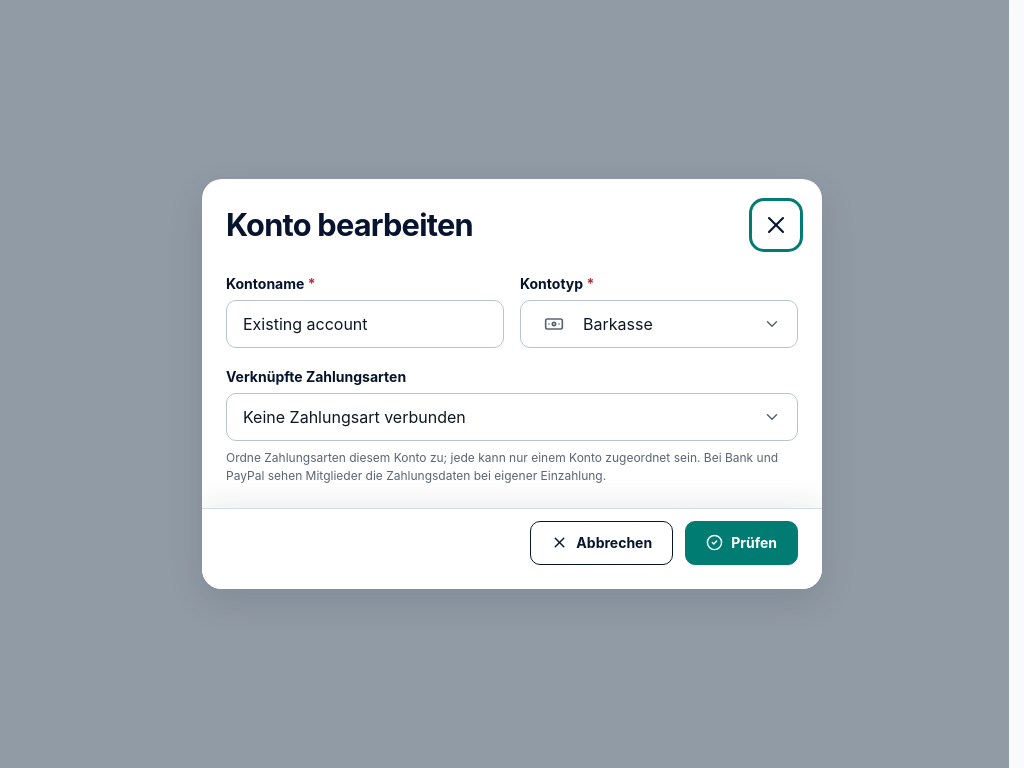
Scenario: ExternalAccountDialog › uses the icon-supported custom menu for account types
Step 1. Click the dropdown named "Kontotyp" → [618, 324], box [520, 300, 798, 348]
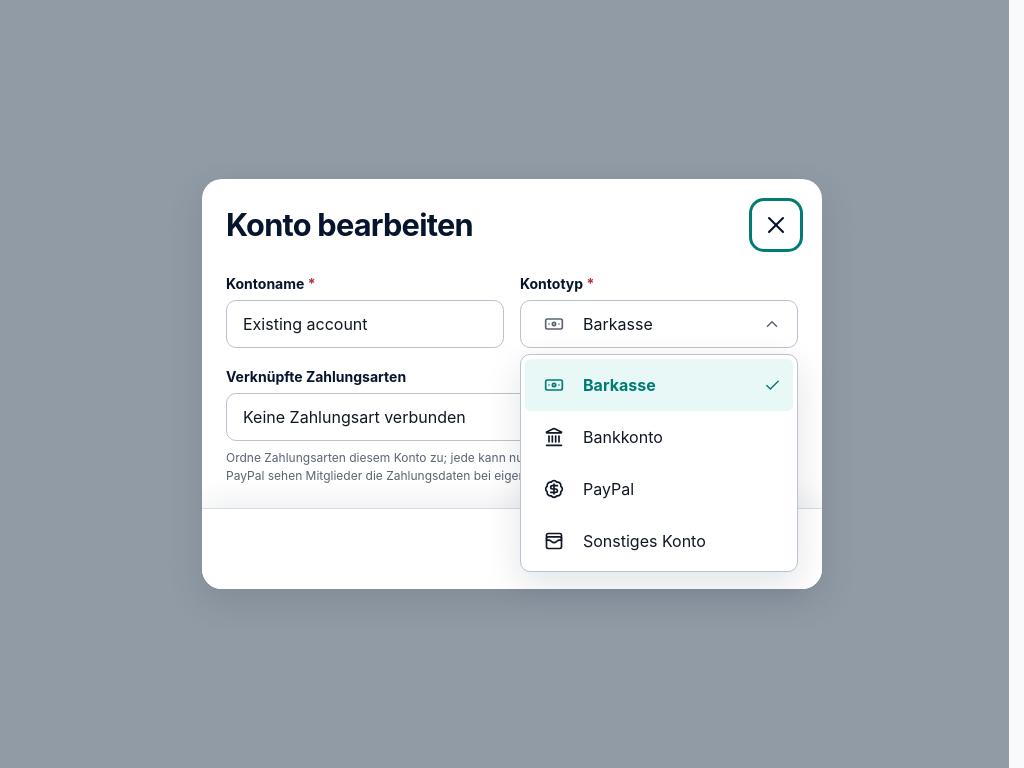
Now the icon next to "Bankkonto" is shown, box [544, 427, 564, 447]
Step 2. Click the option "Bankkonto" → [603, 437], box [544, 427, 663, 447]
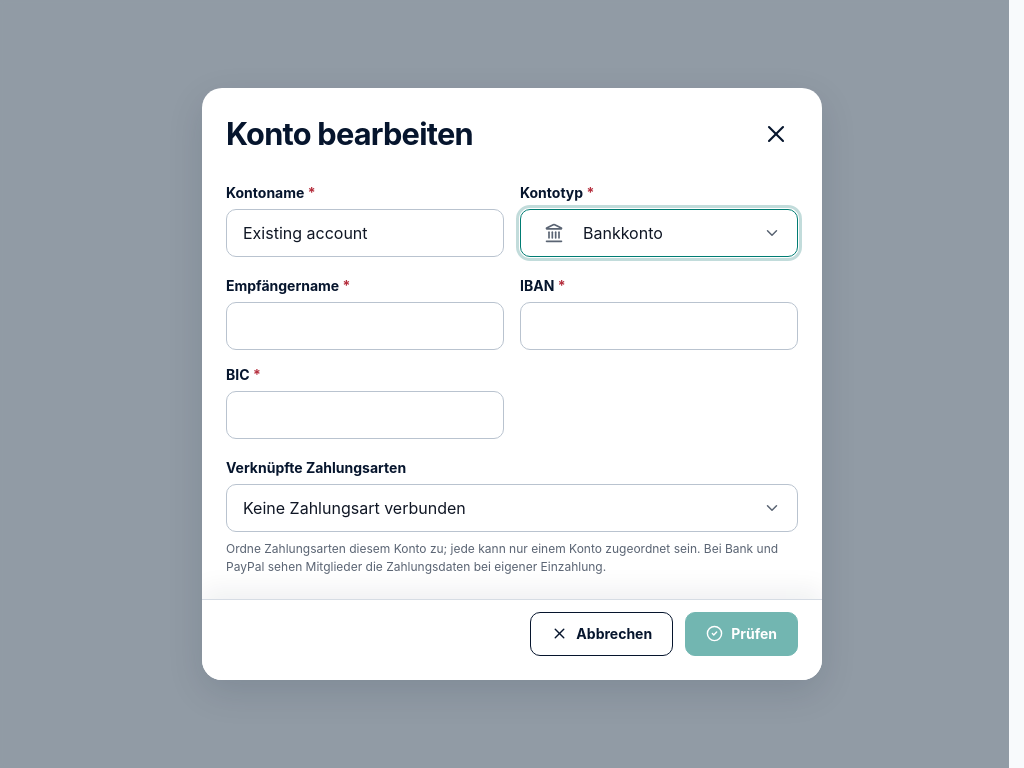
Now the dropdown named "Kontotyp" reads "Bankkonto", box [520, 209, 798, 257]
